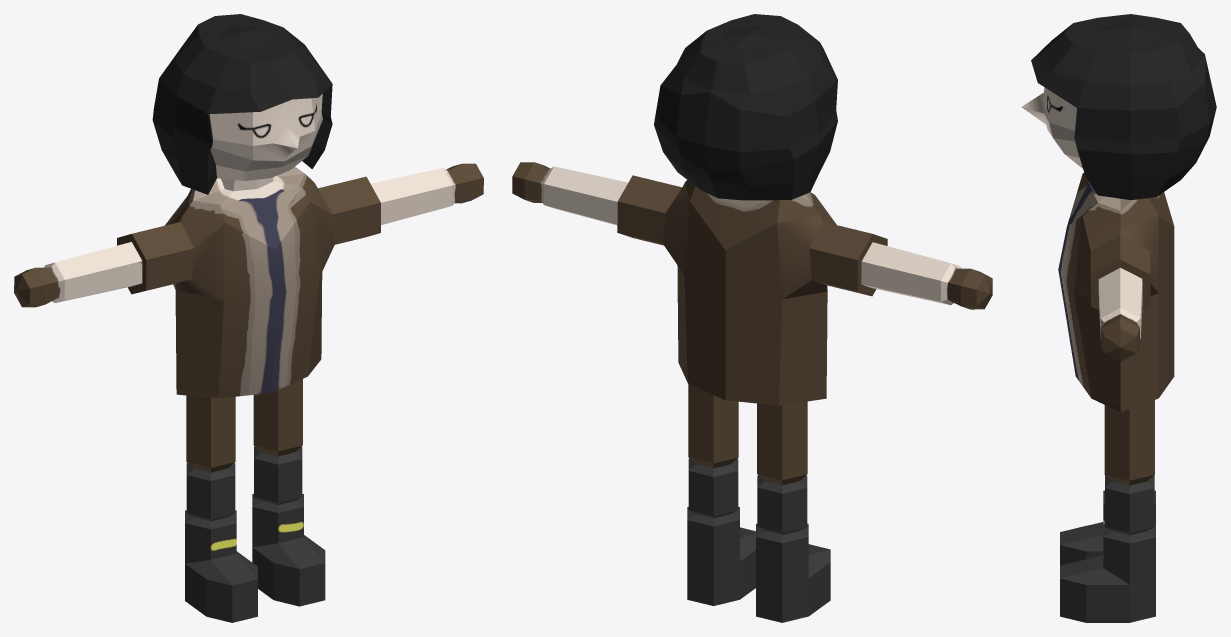
The model's file is Madi.fbx.
3 renders of one model, left to right at view 1: azimuth 30°, elevation 25°; view 2: azimuth 150°, elevation 25°; view 3: azimuth 270°, elevation 25°, orthographic. The views are drawn at different scales.
Visible parts, largest first — view 1: Torso, Head, Leg; view 2: Torso, Head, Leg; view 3: Head, Torso, Leg.
Boxes of the visible parts, x1,y1,x2,y2 form: Torso: (14,163,483,398); Head: (152,14,332,194); Leg: (185,379,325,622); Torso: (512,162,992,405); Head: (654,14,837,200); Leg: (687,384,830,622); Head: (1021,14,1216,199); Torso: (1058,173,1174,412); Leg: (1060,400,1155,622).
Size of the model in its own units: 5.87 by 6.7 by 2.1.
